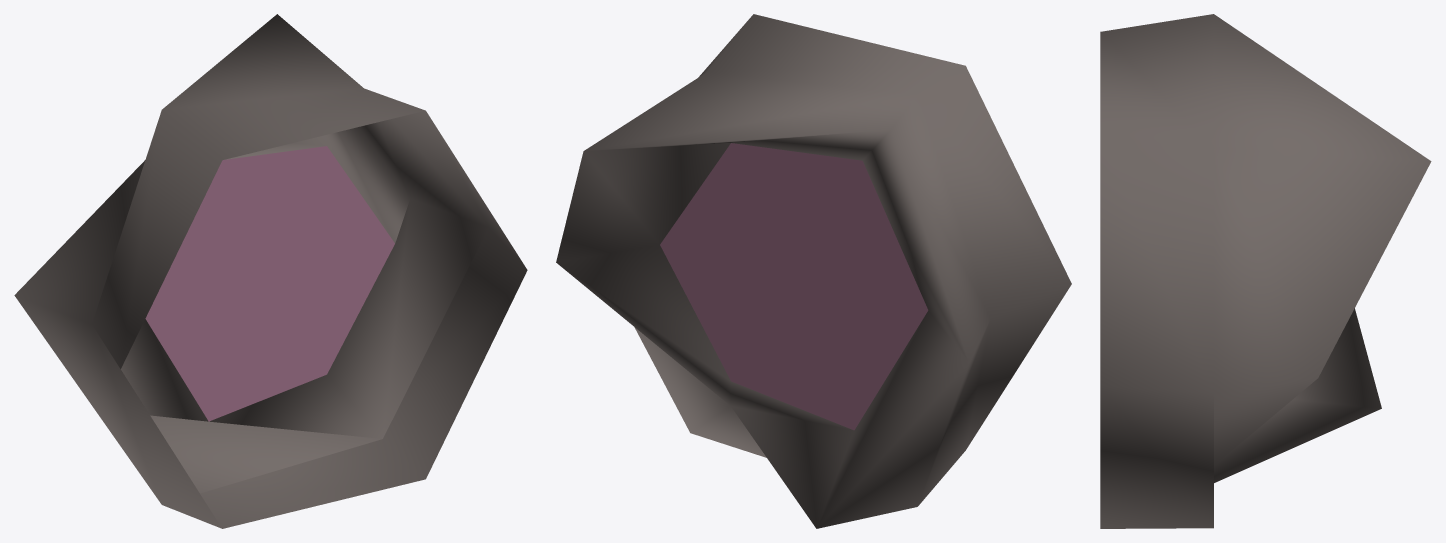
The model's file is Hole_prova.fbx.
3 renders of one model, left to right at view 1: azimuth 30°, elevation 25°; view 2: azimuth 150°, elevation 25°; view 3: azimuth 270°, elevation 25°, orthographic. The views are drawn at different scales.
Visible parts, largest first — view 1: polySurface3; view 2: polySurface3; view 3: polySurface3.
Part boxes in pixels (x1,y1,x2,y2): polySurface3: [14, 14, 527, 528]; polySurface3: [556, 14, 1071, 528]; polySurface3: [1100, 14, 1431, 528].
Bounding box in the file's own units: 10.41 × 9.25 × 6.61.
1 material, 1 textured.
